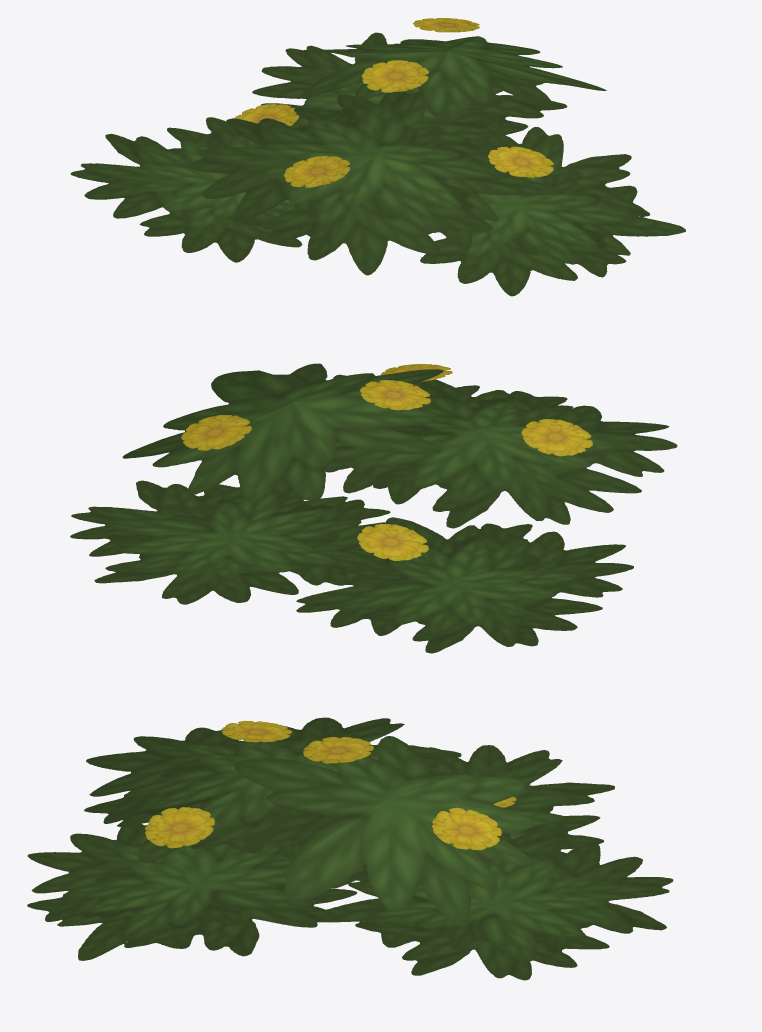
The model's file is scene_shenmisenlin_zhiwu03.FBX.
3 renders of one model, top to bottom at view 1: azimuth 30°, elevation 25°; view 2: azimuth 150°, elevation 25°; view 3: azimuth 270°, elevation 25°, orthographic. The views are drawn at different scales.
Visible parts, largest first — view 1: scene_shenmisenlin_zhiwu03; view 2: scene_shenmisenlin_zhiwu03; view 3: scene_shenmisenlin_zhiwu03.
Boxes of the visible parts, x1,y1,x2,y2 form: scene_shenmisenlin_zhiwu03: (70, 18, 685, 296); scene_shenmisenlin_zhiwu03: (70, 363, 677, 653); scene_shenmisenlin_zhiwu03: (27, 717, 673, 980).
Bounding box in the file's own units: 144 × 33.04 × 157.
